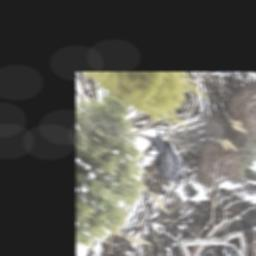Crow: (133, 126, 197, 188)
